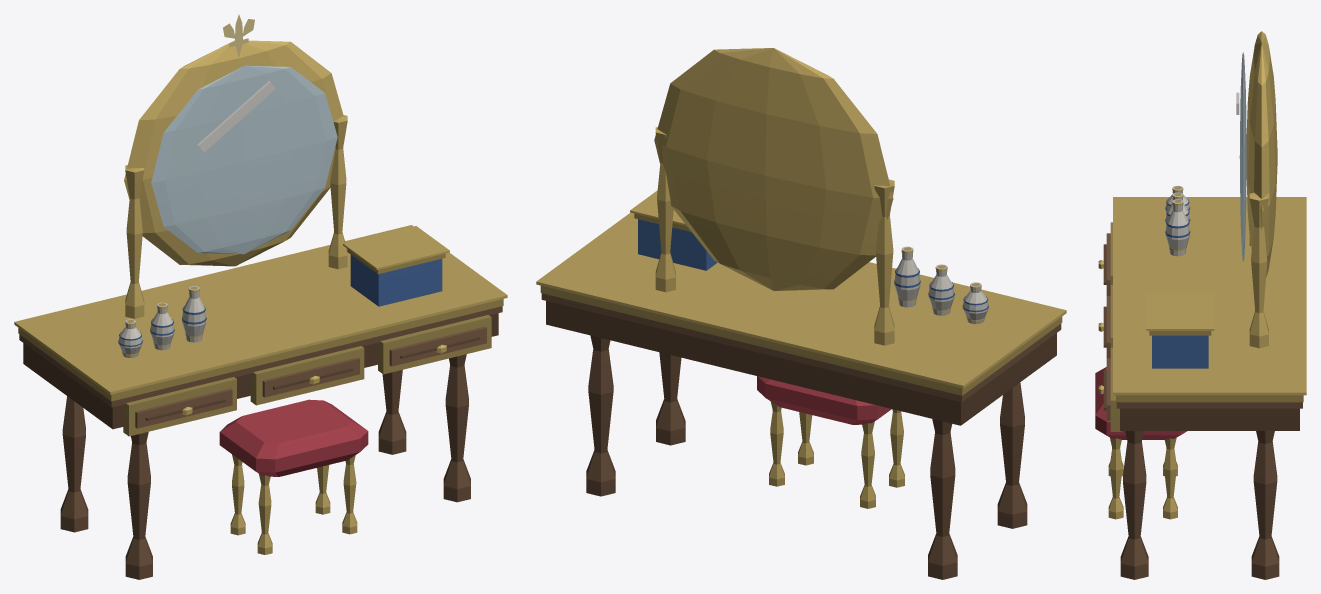
File: palace_vanity.glb
3 renders of one model, left to right at view 1: azimuth 30°, elevation 25°; view 2: azimuth 150°, elevation 25°; view 3: azimuth 270°, elevation 25°, orthographic. The views are drawn at different scales.
Visible parts, largest first — view 1: palace_vanity; view 2: palace_vanity; view 3: palace_vanity.
Part boxes in pixels (box(x1,y1,x2,y2)): palace_vanity: box(14, 14, 507, 579); palace_vanity: box(536, 48, 1066, 579); palace_vanity: box(1095, 31, 1306, 579).
Size of the model in its own units: 1.88 by 2.15 by 0.8575.
